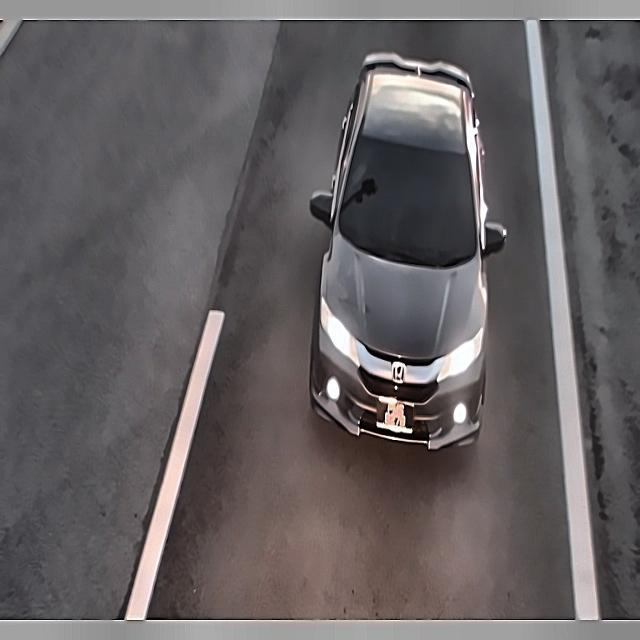car: (378, 386, 410, 444)
